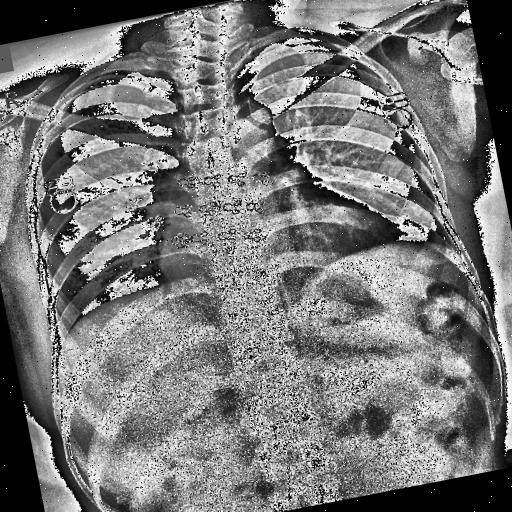3- Cardiomegaly: (154, 200, 404, 311), (150, 189, 406, 297), (148, 188, 406, 295)
